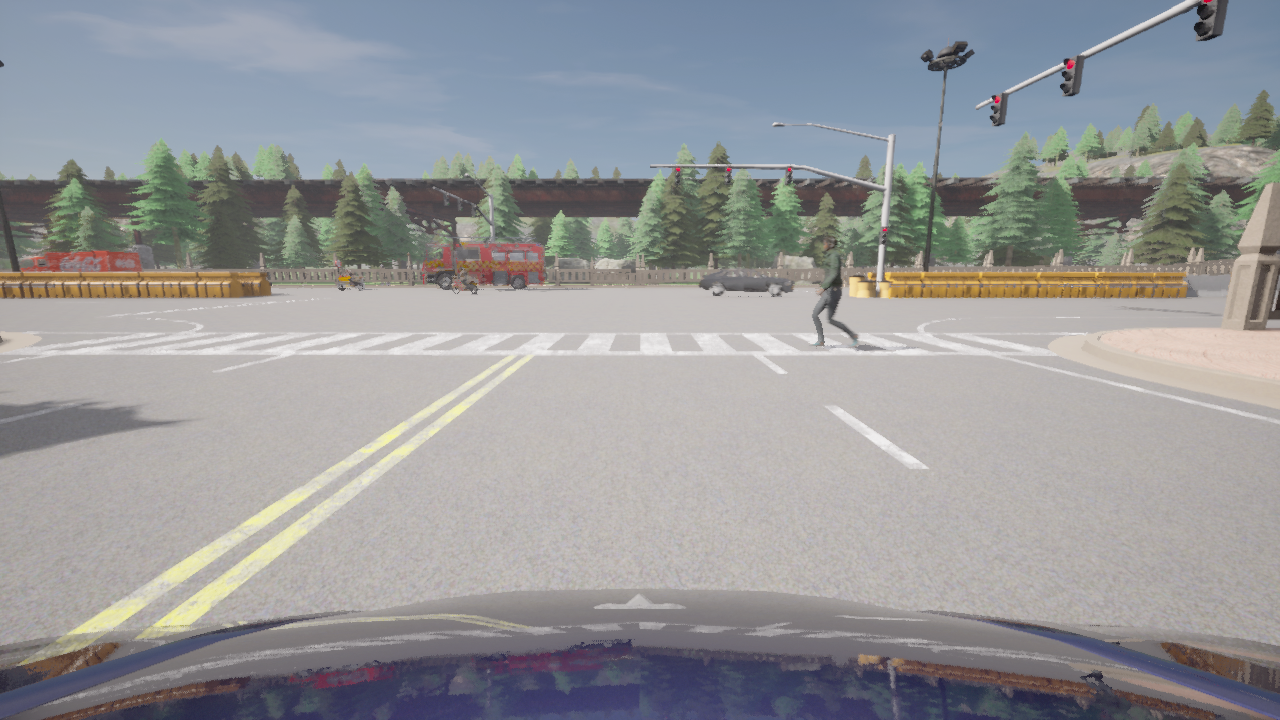cyclist: (0, 588, 1279, 719), (422, 236, 545, 289), (698, 267, 795, 297), (18, 250, 143, 271), (451, 274, 479, 294), (338, 274, 364, 289), (195, 270, 233, 271)
pedestrian: (809, 235, 860, 347), (381, 265, 389, 284)
